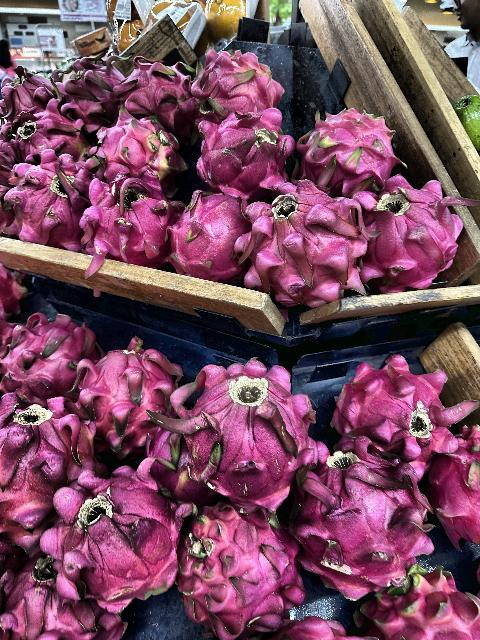buah-naga-belum-matang: (91, 114, 189, 184)
buah-naga-matang: (276, 448, 436, 592), (156, 356, 318, 498), (53, 468, 196, 614), (1, 392, 104, 562), (177, 502, 305, 638), (238, 176, 364, 310), (330, 350, 464, 466), (360, 177, 474, 296), (66, 338, 169, 450), (6, 554, 136, 640), (291, 101, 403, 191), (75, 164, 174, 264), (194, 109, 302, 198), (8, 304, 86, 402), (165, 186, 246, 280), (186, 44, 284, 114), (103, 53, 195, 127), (2, 157, 82, 239), (380, 580, 480, 640), (50, 56, 122, 130), (1, 107, 82, 157), (0, 60, 50, 118)
